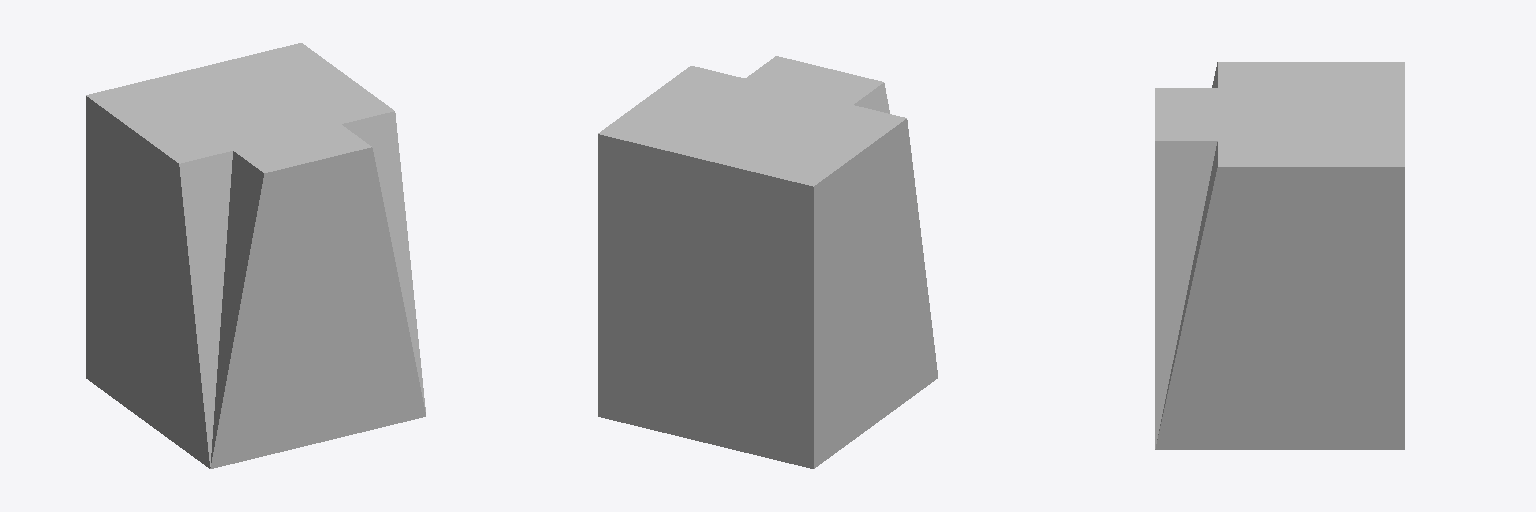
The model's file is DungeonWall5_.obj.
3 views of the same model, side by side, from view 1: azimuth 30°, elevation 25°; view 2: azimuth 150°, elevation 25°; view 3: azimuth 270°, elevation 25° (orthographic).
Parts seen in each view (by area): view 1: Cube; view 2: Cube; view 3: Cube.
Part boxes in pixels (bbox=[...]): Cube: bbox=[86, 43, 425, 468]; Cube: bbox=[598, 56, 937, 468]; Cube: bbox=[1155, 62, 1404, 449].
Bounding box in the file's own units: 8 × 10 × 8.